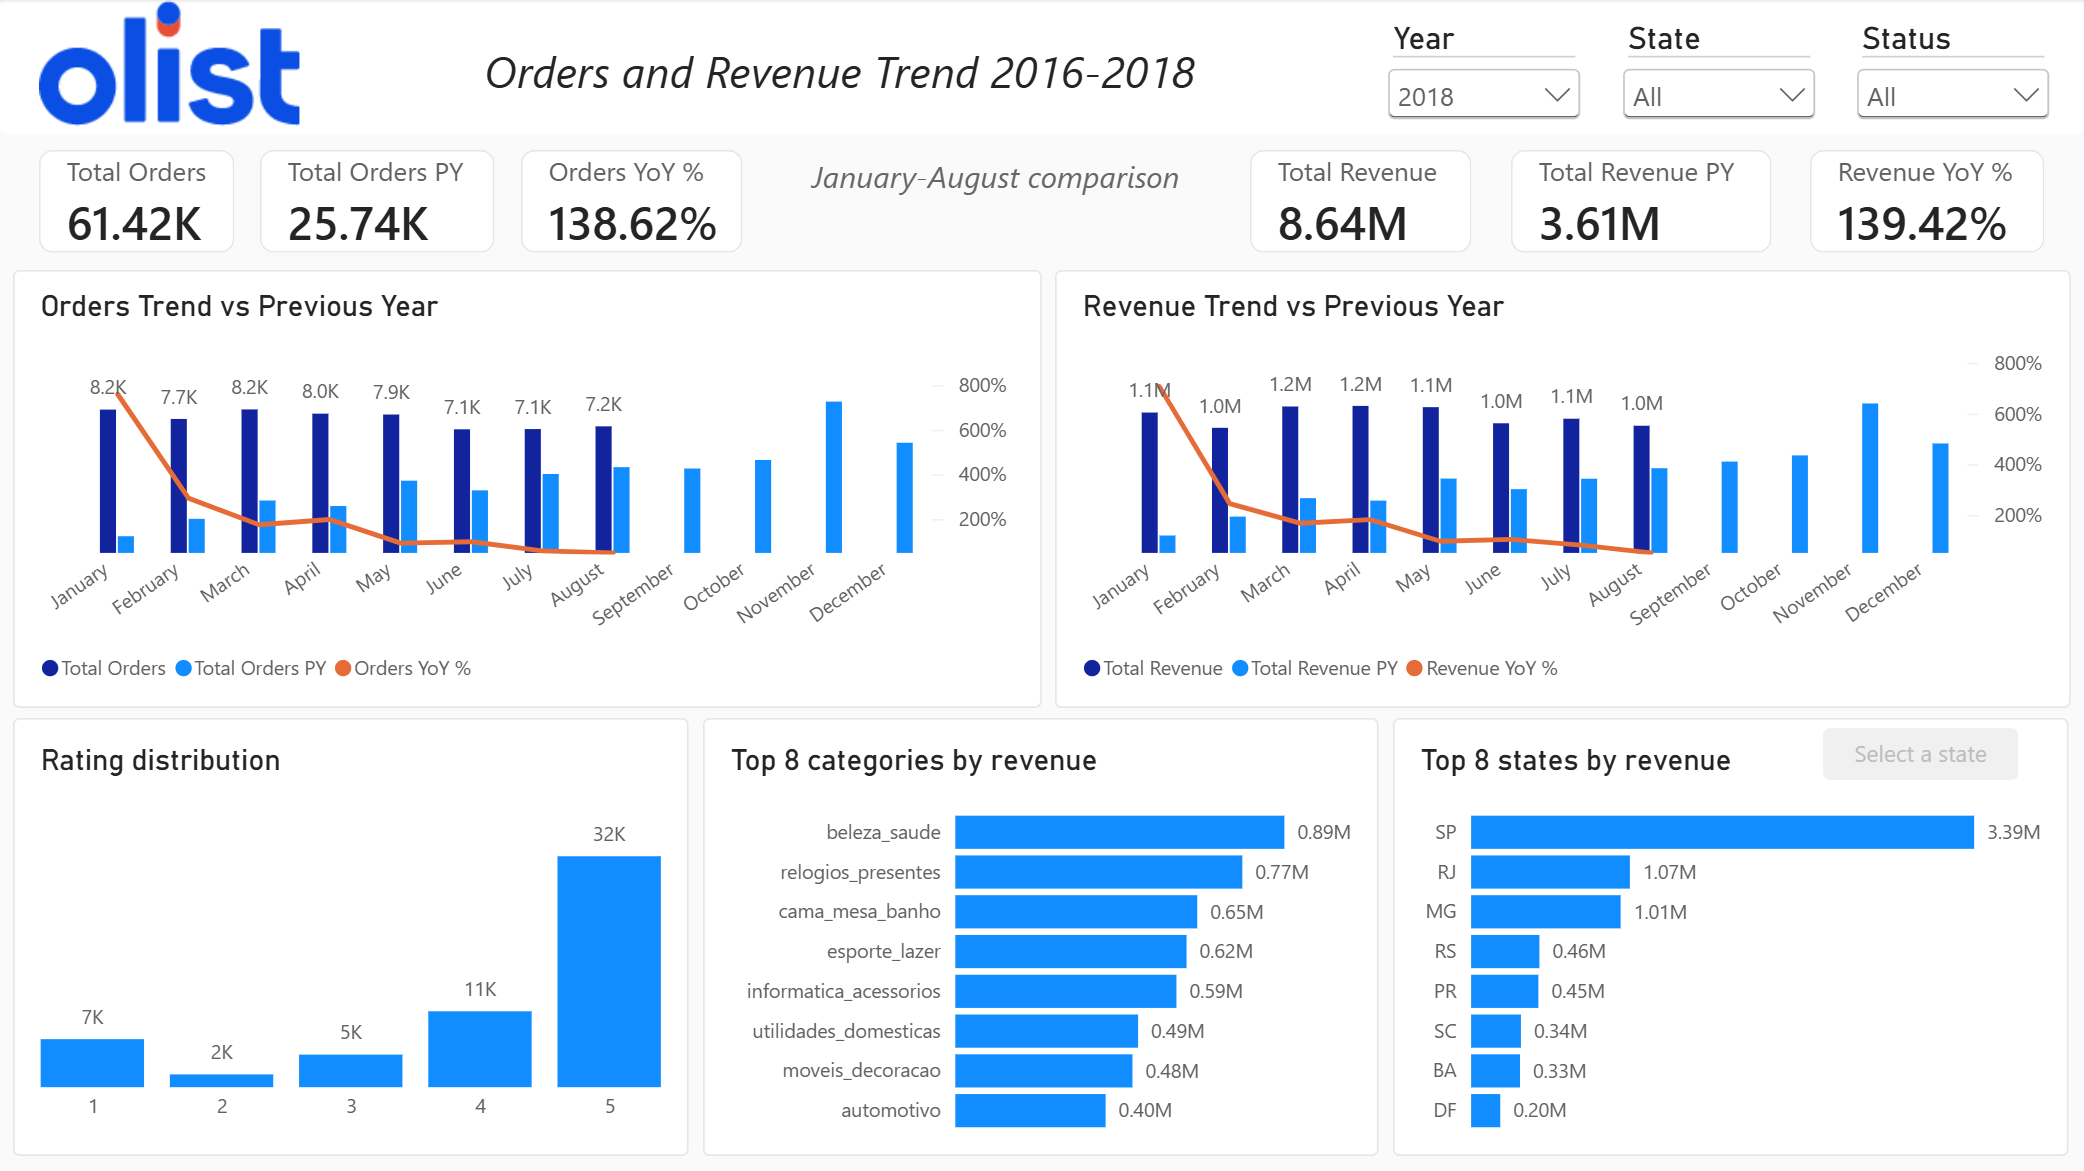

The dashboard page shown, as its layout file describes it:
{"tool":"powerbi","page":{"name":"Overview","canvas":[1280,720],"ordinal":0},"visuals":[{"type":"shape","box":[0,0,1280,83.2],"z":0},{"type":"lineClusteredColumnComboChart","title":"Orders Trend vs Previous Year","fields":{"Category":["calendar.Month Name"],"Y":["misure.Orders Count","misure.Orders Count PY"],"Y2":["misure.Orders Count YoY %"]},"box":[8,166.4,632,268.8],"z":1000},{"type":"slicer","fields":{"Values":["calendar.Year"]},"box":[848,12.8,128,64],"z":2000},{"type":"slicer","fields":{"Values":["fact_orders.order_status"]},"box":[1136,12.8,128,64],"z":3000},{"type":"cardVisual","fields":{"Data":["misure.Orders Count Jan-Aug"]},"box":[24,92.8,120,64],"z":4000},{"type":"cardVisual","fields":{"Data":["misure.Total Revenue Jan-Aug"]},"box":[768,92.8,136,64],"z":5000},{"type":"image","box":[24,0,160,80],"z":6000},{"type":"cardVisual","fields":{"Data":["misure.Orders Count PY Jan-Aug"]},"box":[160,92.8,144,64],"z":7000},{"type":"cardVisual","fields":{"Data":["misure.Total revenue PY Jan-Aug"]},"box":[928,92.8,160,64],"z":8000},{"type":"textbox","box":[8,600,152,120],"z":9000},{"type":"textbox","box":[292,25.6,448,38.4],"z":10000},{"type":"lineClusteredColumnComboChart","title":"Revenue Trend vs Previous Year","fields":{"Category":["calendar.Month Name"],"Y":["misure.Total Revenue","misure.Total Revenue PY"],"Y2":["misure.Total Revenue YoY %"]},"box":[648,166.4,624,268.8],"z":11000},{"type":"barChart","title":"Top 8 states by revenue","fields":{"Category":["dim_customers.customer_state"],"Y":["misure.Total Revenue"]},"box":[856,441.6,415,268.8],"z":12000},{"type":"barChart","title":"Top 8 categories by revenue","fields":{"Category":["dim_products.product_category_name"],"Y":["misure.Total Revenue"]},"box":[432,441.6,415,268.8],"z":13000},{"type":"clusteredColumnChart","title":"Rating distribution","fields":{"Category":["fact_order_reviews.review_score"],"Y":["misure.Reviews Count"]},"box":[8,441.6,415,268.8],"z":14000},{"type":"cardVisual","fields":{"Data":["misure.Orders YoY % Jan-Aug"]},"box":[320,92.8,136,64],"z":15000},{"type":"cardVisual","fields":{"Data":["misure.Revenue YoY % Jan-Aug"]},"box":[1112,92.8,144,64],"z":16000},{"type":"slicer","fields":{"Values":["dim_customers.customer_state"]},"box":[992,12.8,128,64],"z":17000},{"type":"textbox","box":[480,96,264,56],"z":18000},{"type":"actionButton","box":[1120,448,120,32],"z":19000}]}

Visuals, with their boxes in screenshot pixels (x1, y1, x2, y2), scaled from the page's 1280x720 canvas onto the 2084x1171 screenshot:
shape: bbox=[0, 0, 2083, 135]
"Orders Trend vs Previous Year" lineClusteredColumnComboChart: bbox=[13, 271, 1042, 708]
slicer - calendar.Year: bbox=[1381, 21, 1589, 125]
slicer - fact_orders.order_status: bbox=[1850, 21, 2058, 125]
cardVisual - misure.Orders Count Jan-Aug: bbox=[39, 151, 234, 255]
cardVisual - misure.Total Revenue Jan-Aug: bbox=[1250, 151, 1472, 255]
image: bbox=[39, 0, 300, 130]
cardVisual - misure.Orders Count PY Jan-Aug: bbox=[260, 151, 495, 255]
cardVisual - misure.Total revenue PY Jan-Aug: bbox=[1511, 151, 1771, 255]
textbox: bbox=[13, 976, 260, 1170]
textbox: bbox=[475, 42, 1205, 104]
"Revenue Trend vs Previous Year" lineClusteredColumnComboChart: bbox=[1055, 271, 2071, 708]
"Top 8 states by revenue" barChart: bbox=[1394, 718, 2069, 1155]
"Top 8 categories by revenue" barChart: bbox=[703, 718, 1379, 1155]
"Rating distribution" clusteredColumnChart: bbox=[13, 718, 689, 1155]
cardVisual - misure.Orders YoY % Jan-Aug: bbox=[521, 151, 742, 255]
cardVisual - misure.Revenue YoY % Jan-Aug: bbox=[1810, 151, 2045, 255]
slicer - dim_customers.customer_state: bbox=[1615, 21, 1824, 125]
textbox: bbox=[782, 156, 1211, 247]
actionButton: bbox=[1824, 729, 2019, 781]
